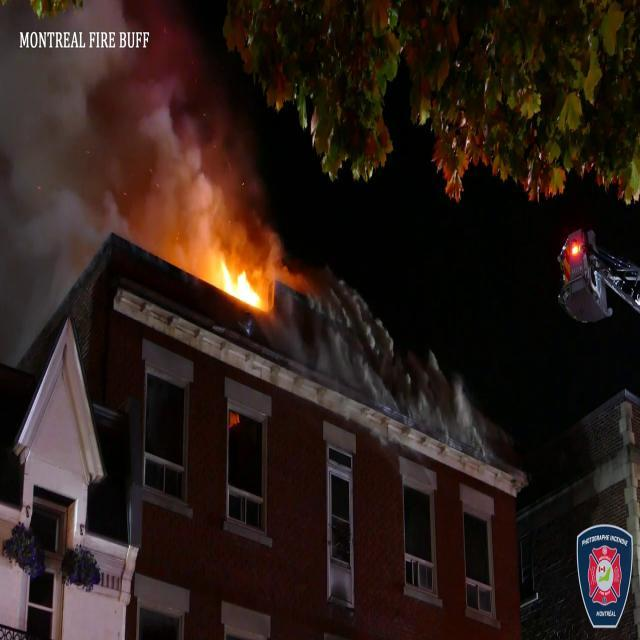Fire: (208, 246, 272, 317)
Smoke: (0, 0, 279, 272)
